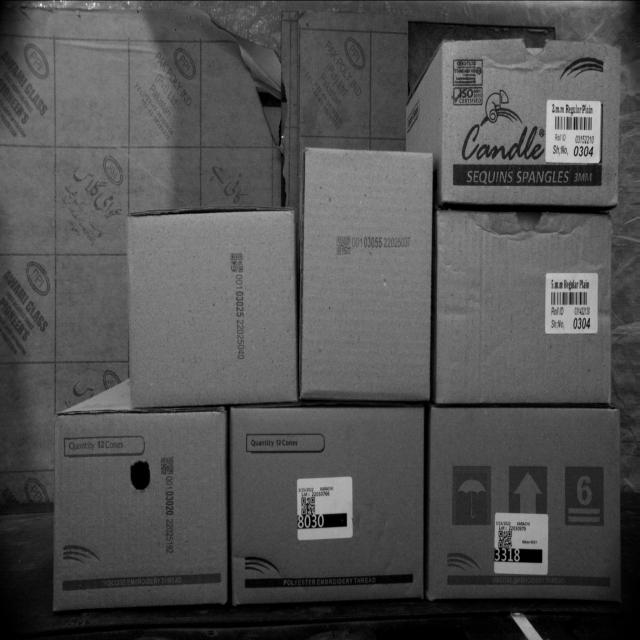cardboxes: (231, 403, 425, 598), (427, 406, 622, 599), (433, 207, 611, 401), (56, 413, 228, 609), (122, 208, 296, 400), (304, 143, 432, 403), (443, 34, 619, 205)
